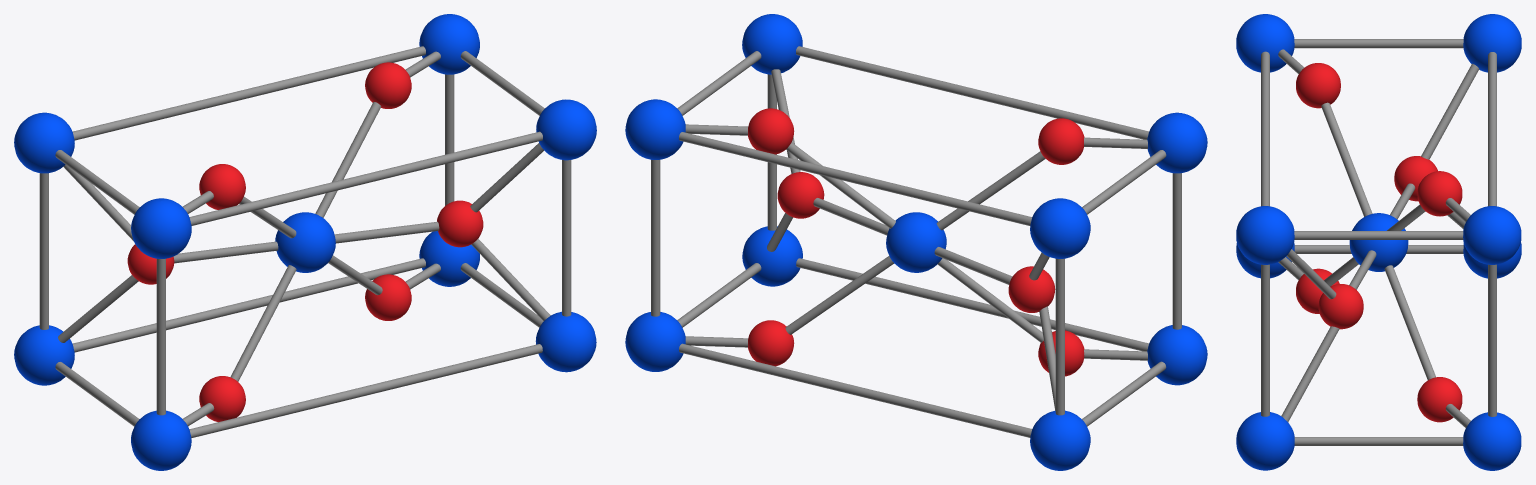
File: MgH2.fbx
The picture shows the model from 3 angles, left to right: view 1: azimuth 30°, elevation 25°; view 2: azimuth 150°, elevation 25°; view 3: azimuth 270°, elevation 25°; orthographic projection. The views are drawn at different scales.
Parts seen in each view (by area): view 1: Сферы_Node (×15), Цилиндр_Node (×19); view 2: Сферы_Node (×15), Цилиндр_Node (×20); view 3: Сферы_Node (×15), Цилиндр_Node (×14).
Part boxes in pixels (left/top/right/bottom): Сферы_Node (×15): left=14, top=14, right=596, bottom=470; Цилиндр_Node (×19): left=39, top=46, right=571, bottom=438; Сферы_Node (×15): left=625, top=14, right=1207, bottom=470; Цилиндр_Node (×20): left=651, top=46, right=1181, bottom=437; Сферы_Node (×15): left=1236, top=14, right=1521, bottom=470; Цилиндр_Node (×14): left=1261, top=39, right=1496, bottom=445.
Bounding box in the file's own units: 6.78 × 3.78 × 3.77.
14 materials, 2 textured.
